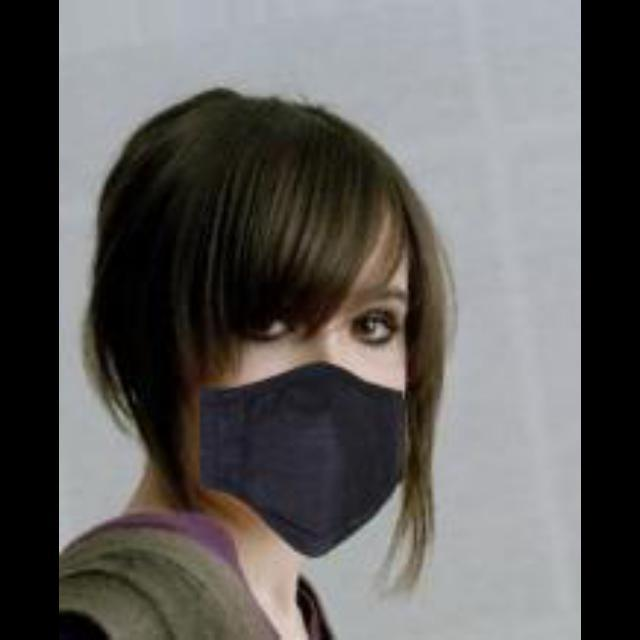suspicion: (93, 94, 477, 550)
